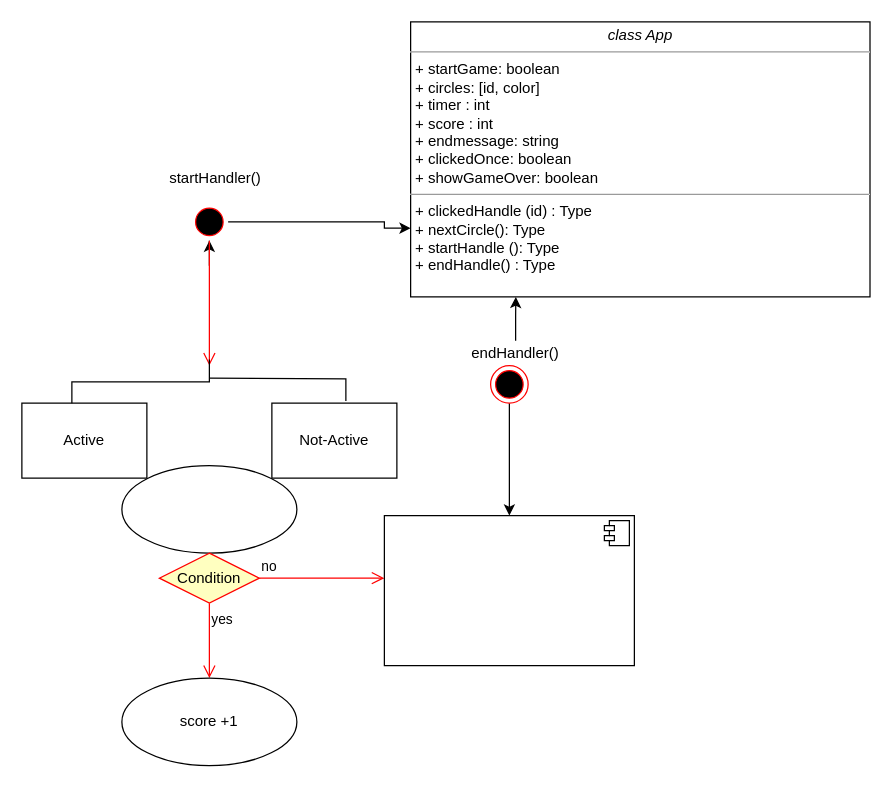
This 893x788 diagram has some shape labels left out. The box of each missing label's shape, as (x1, y1, x2, y2) in pixels:
clickedHandle: (121, 464, 297, 553)
gameOver + gameEndSound.play() + gameStartSound.pause() + score + closehandler: (383, 514, 634, 666)
